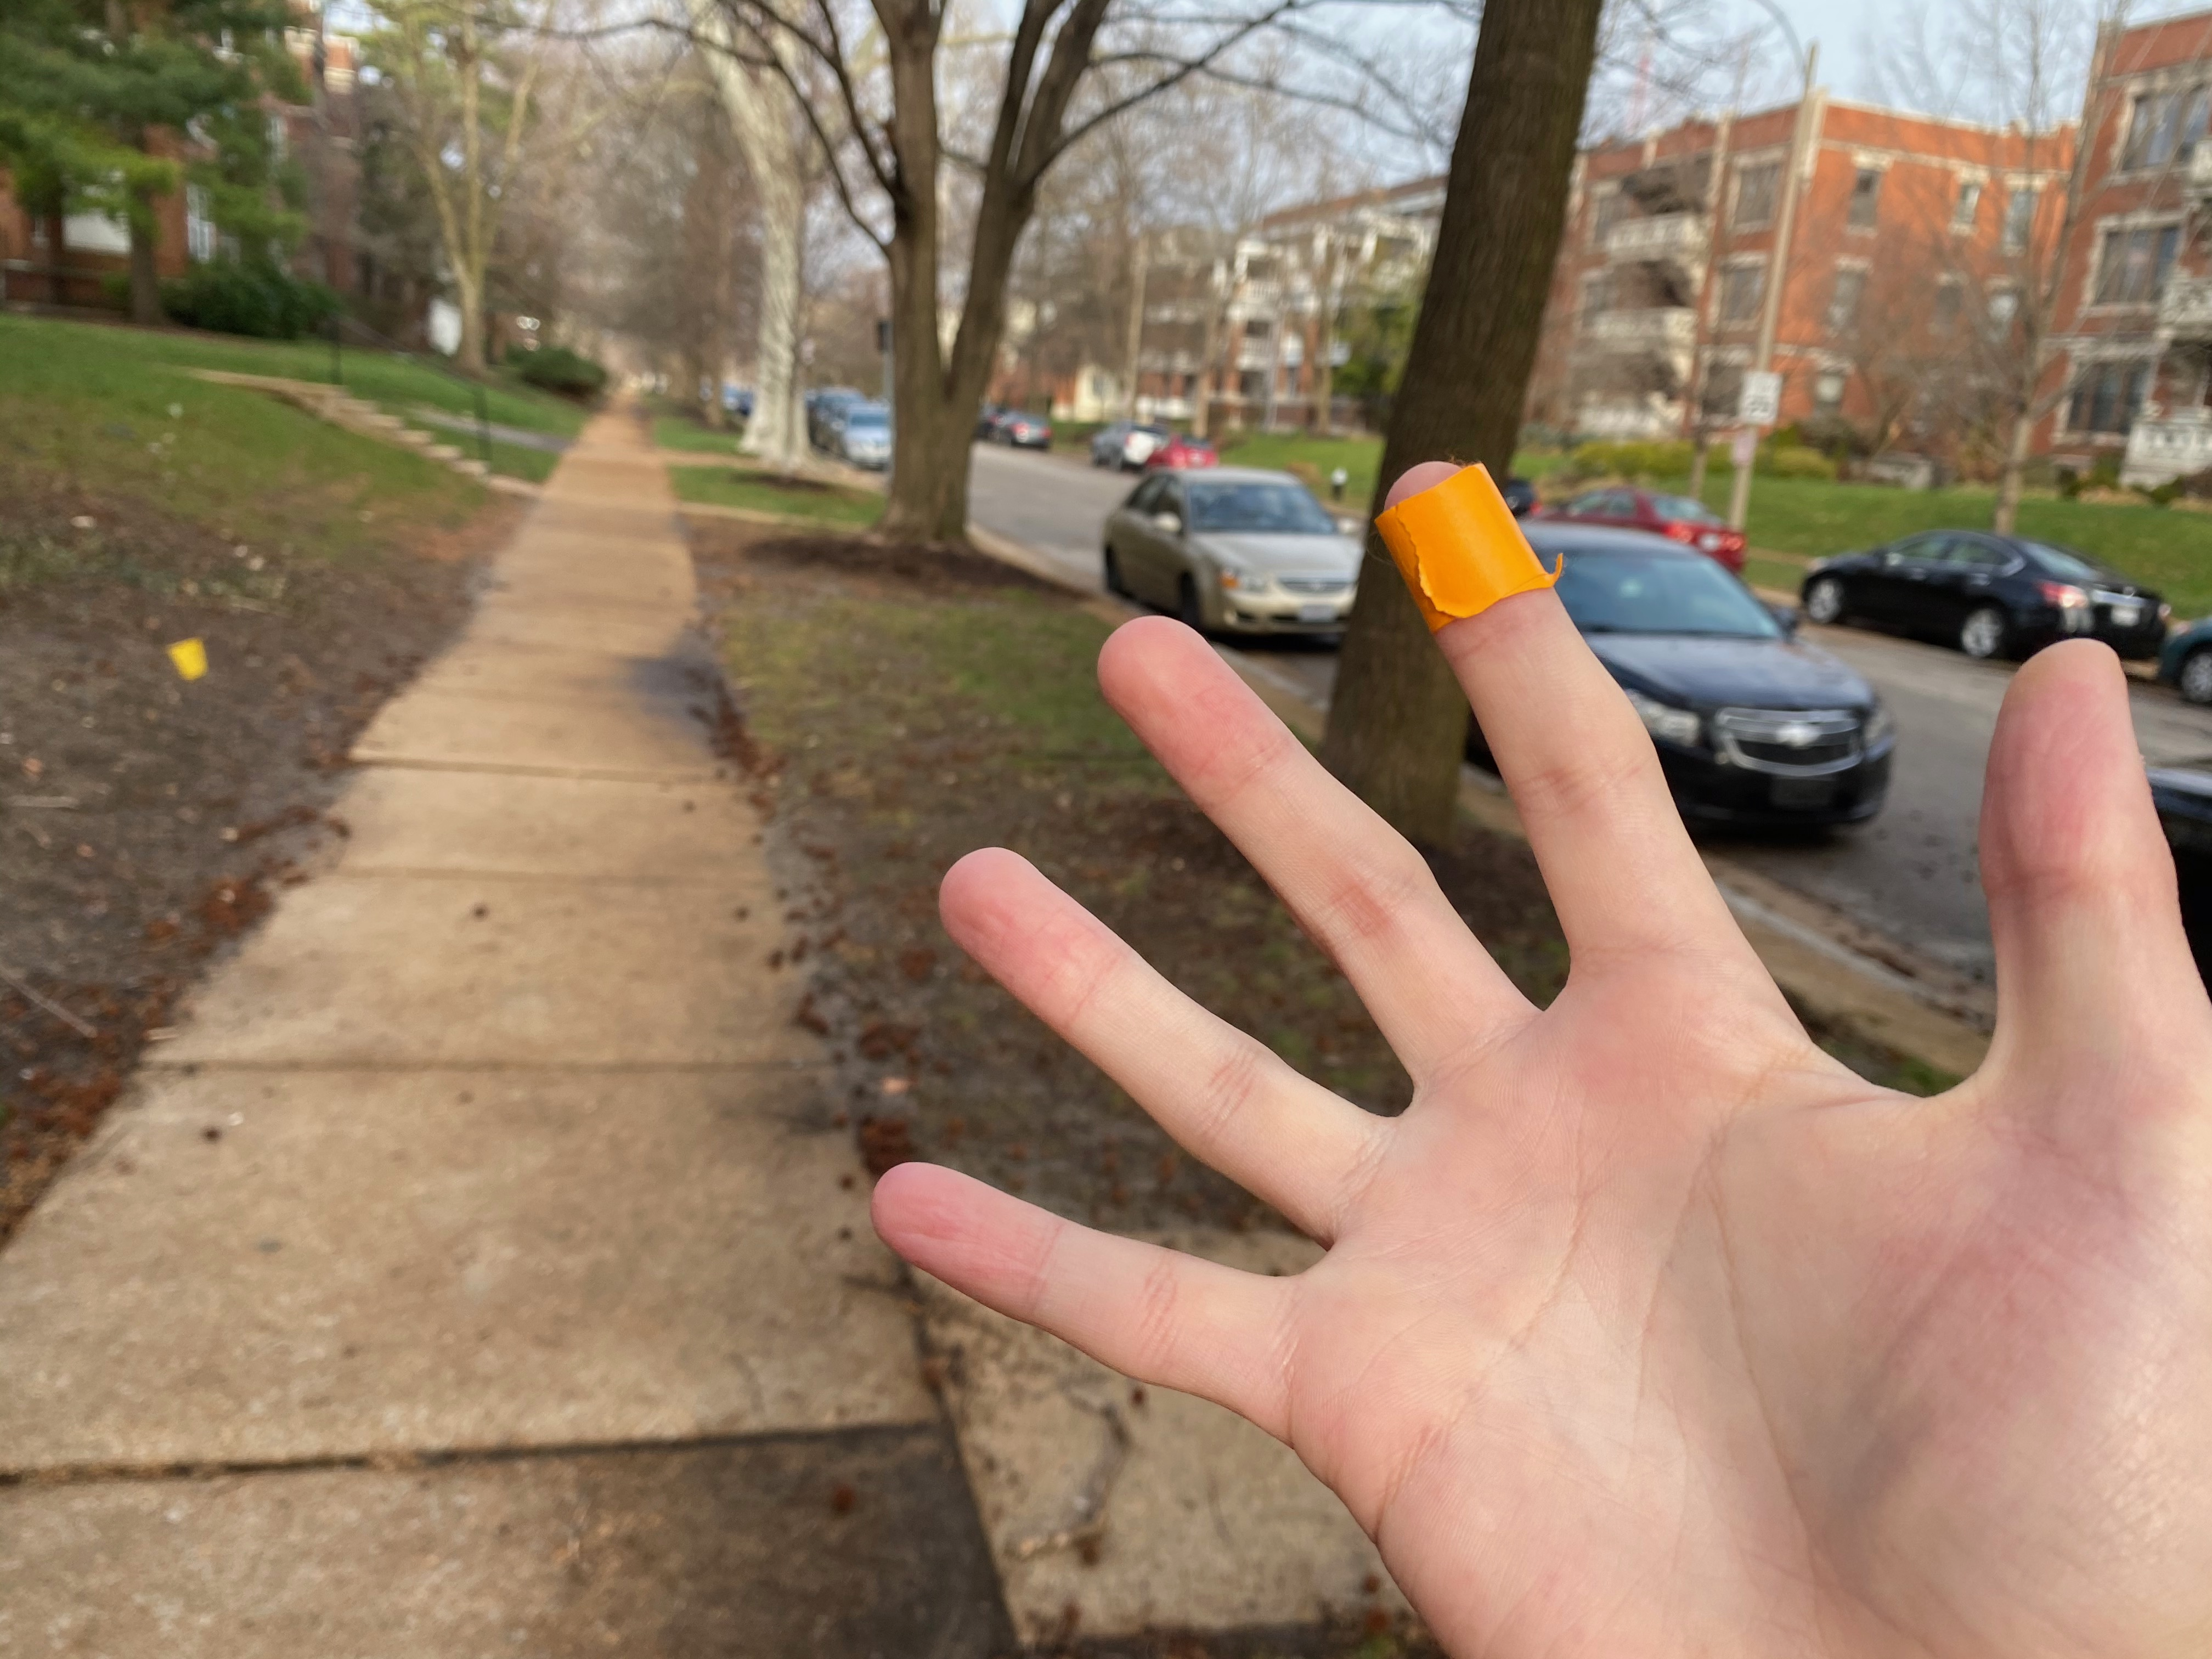fingertip: (1339, 441, 1637, 666)
